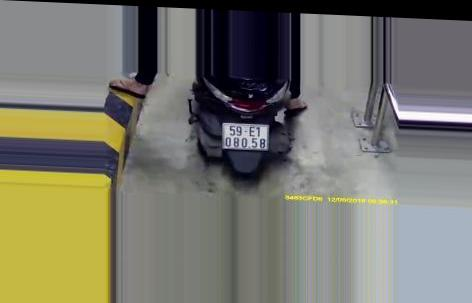License_Plate: (220, 118, 272, 157)
